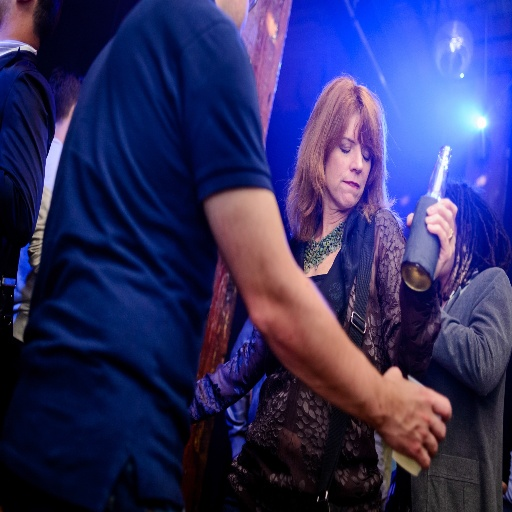hand: (373, 343, 456, 476), (406, 198, 456, 283)
